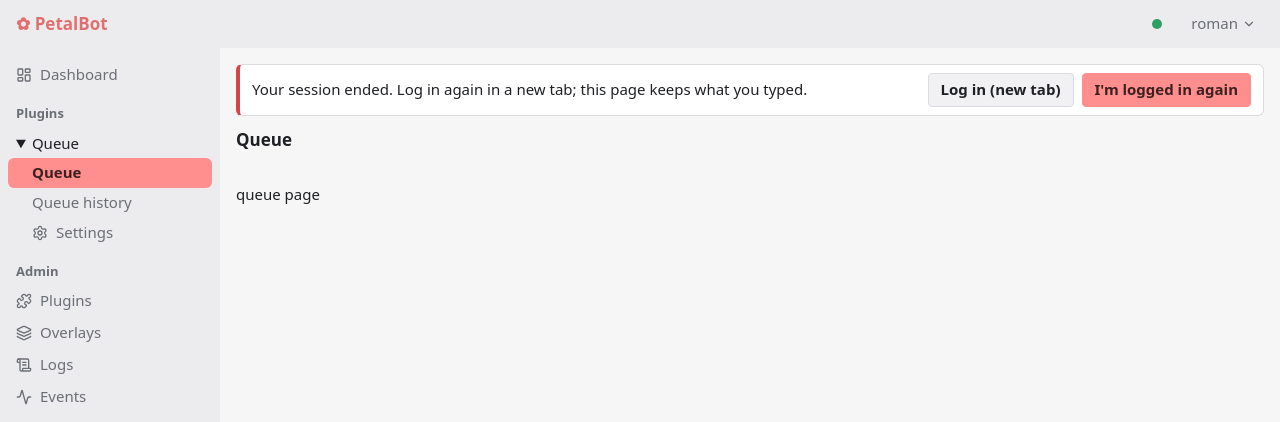
it: connection and session feedback › shows the session notice and connects again once logged in
The image size is (1280, 422).
Expected: the text "Your session ended" is shown, [252, 79, 807, 99]
Expected: the text "queue page" is shown, [236, 184, 320, 204]
Click the button "I'm logged in again" at x=1166, y=90, box [1082, 73, 1251, 107]
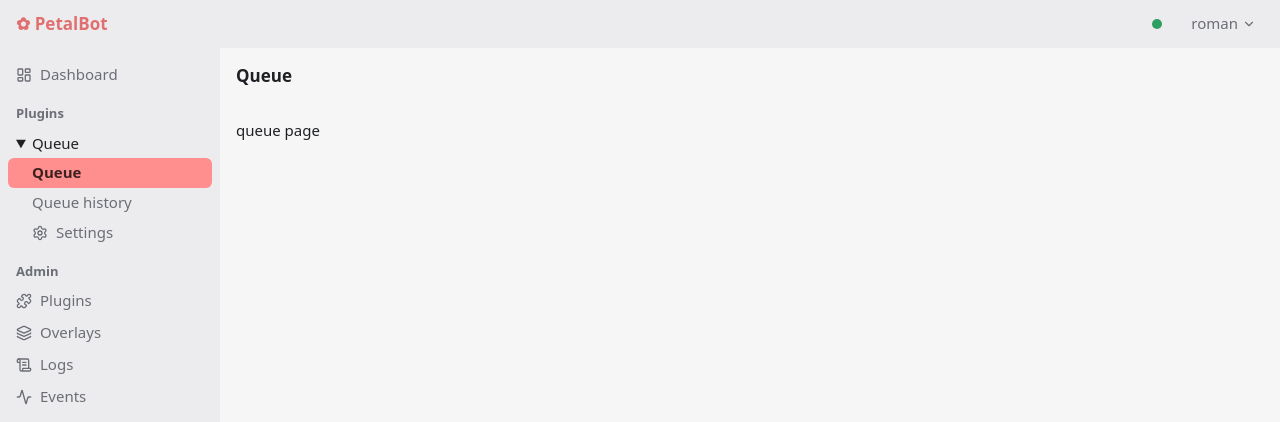
Result: the text "Your session ended" is gone
